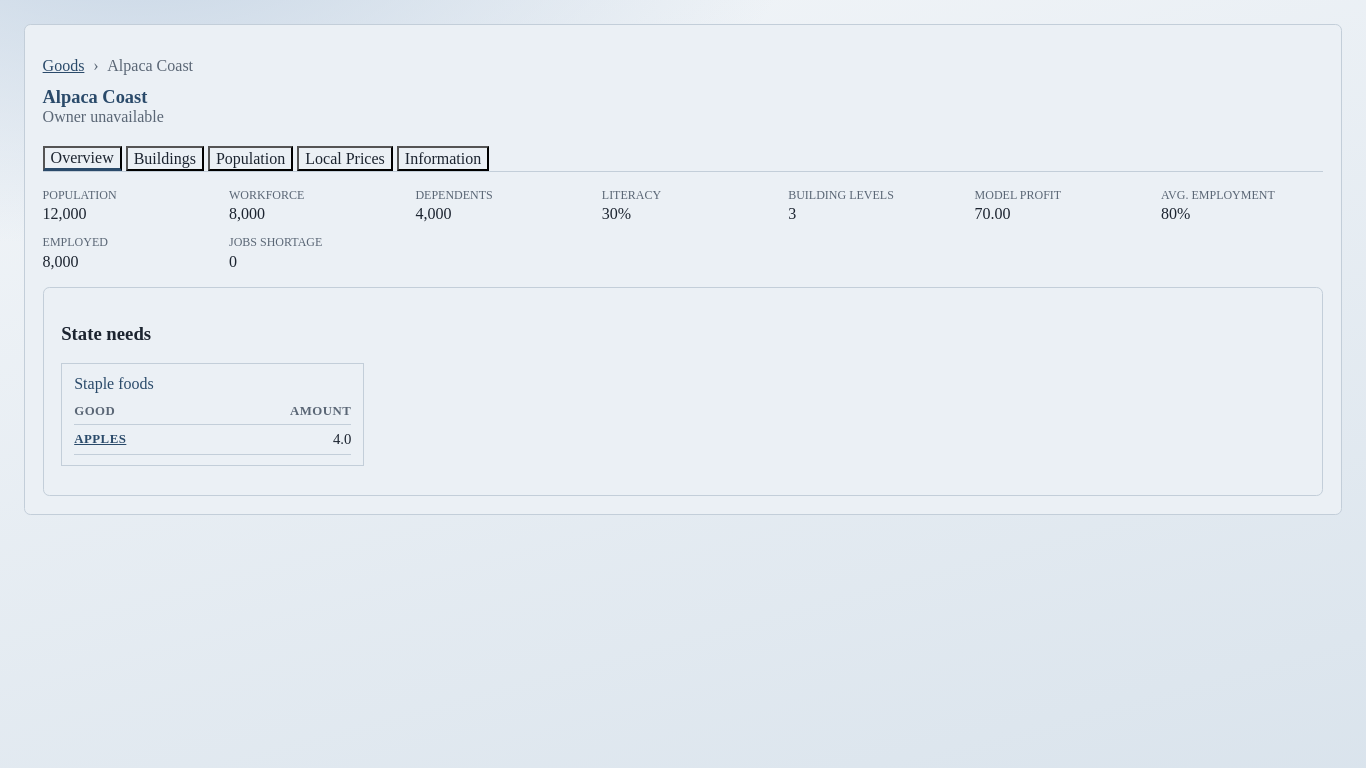
Test: PriceExplorer › shows remaining arable land as honest rural capacity
Click the tab "Buildings" at {"x": 165, "y": 158}, box [126,146,204,171]
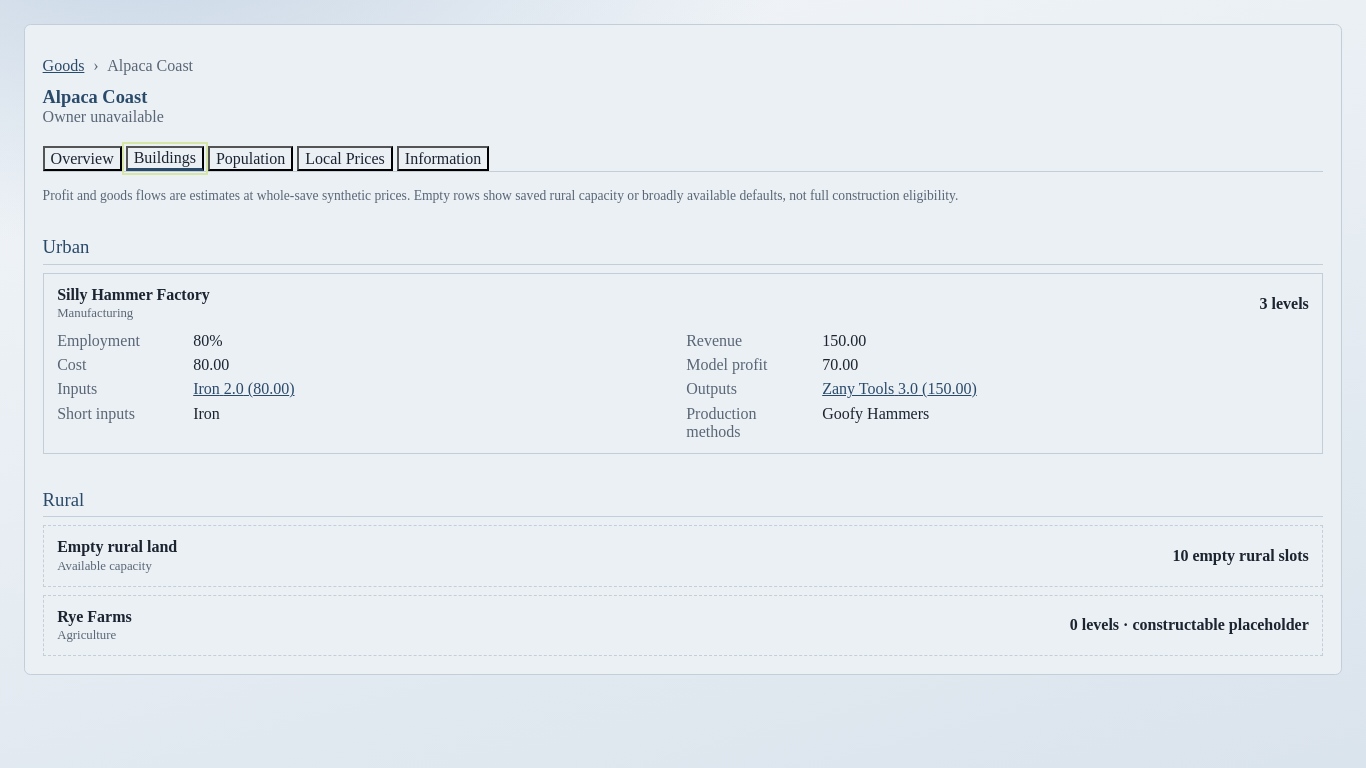
Result: the text "10 empty rural slots" is shown at [1172,547,1309,565]
Result: the text "Rye Farms" is shown at [57,608,132,626]
Result: the text "0 levels · constructable placeholder" is shown at [1070,616,1309,634]
